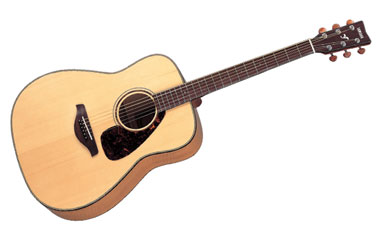guitar: (11, 18, 373, 223)
